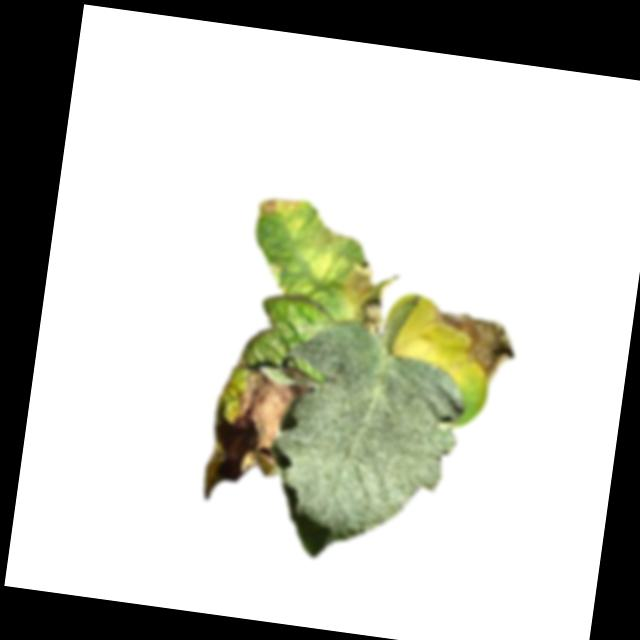Late_blight: (227, 362, 302, 479), (422, 303, 522, 386), (334, 256, 403, 336), (256, 192, 303, 222)
healthy: (266, 317, 473, 573)
